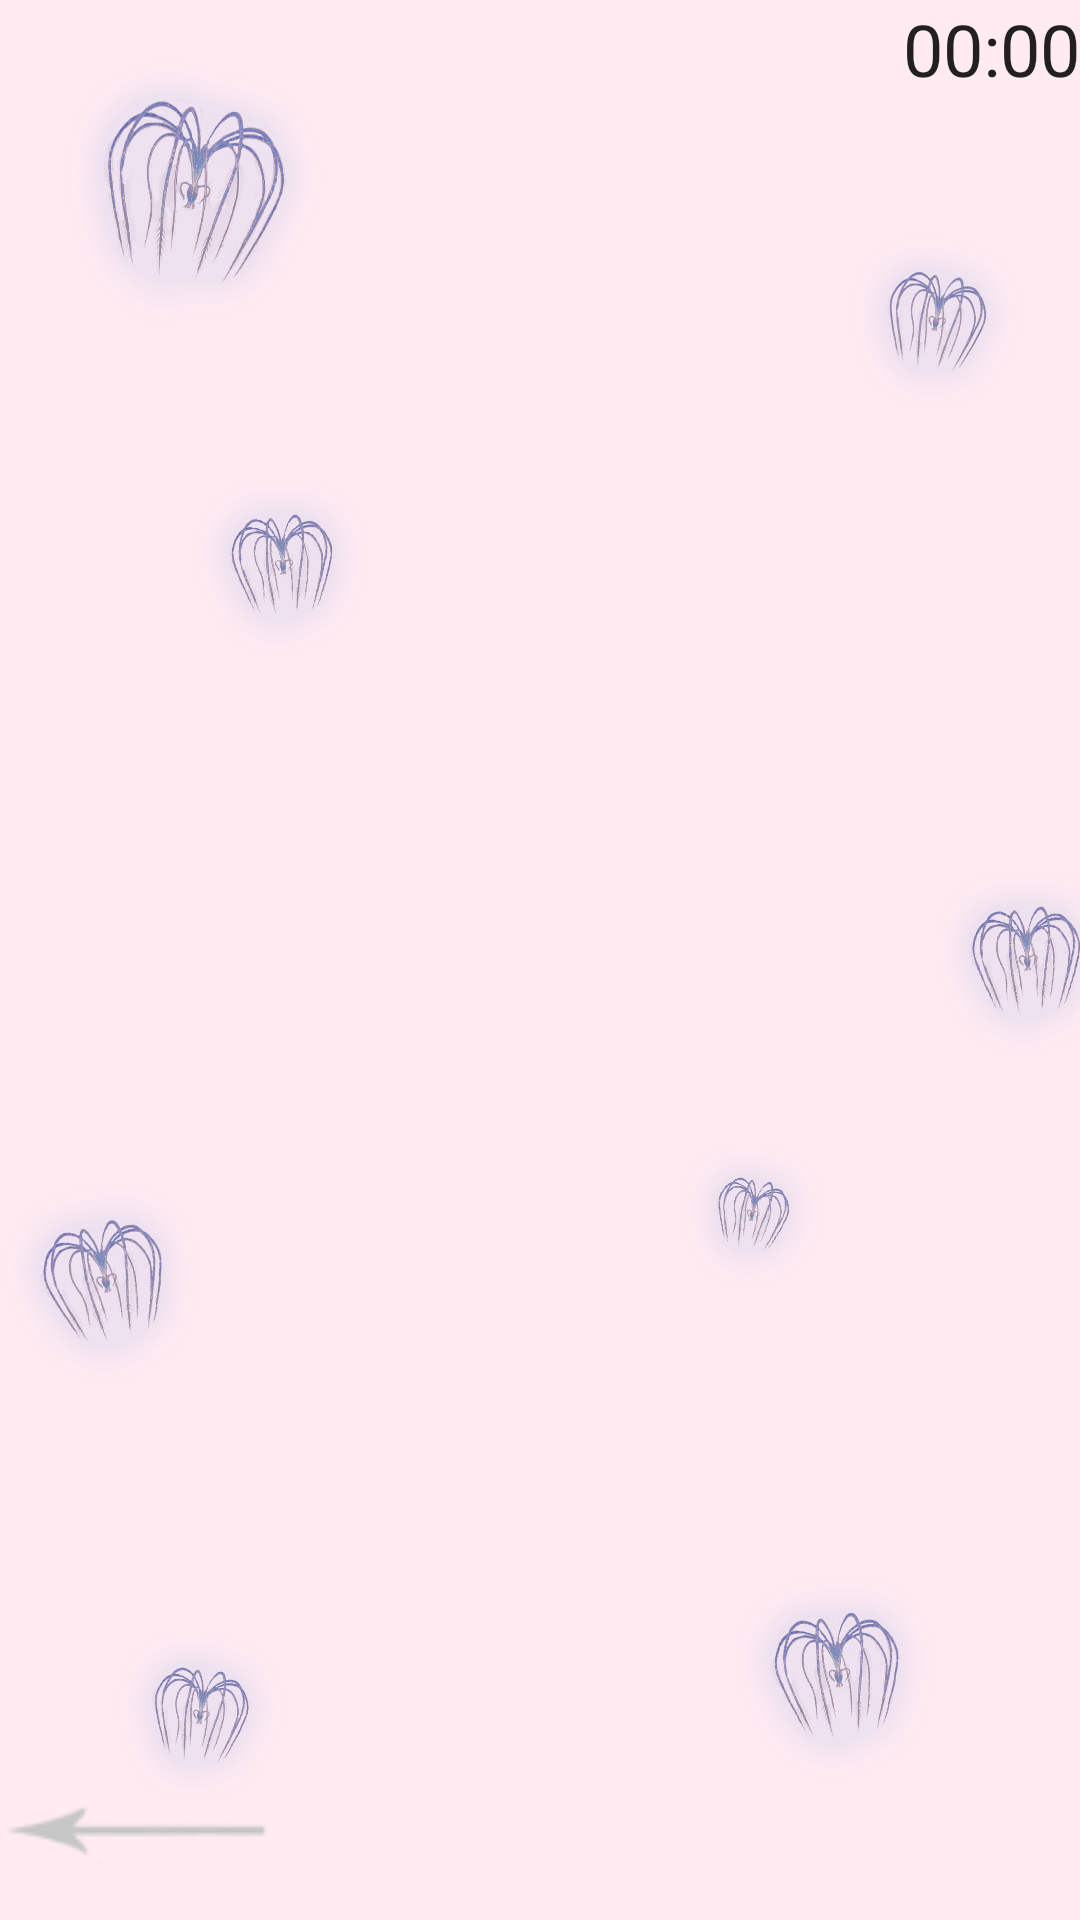

Icon click points for this 1080px x 1920px phone screenshot, format point (x, y):
back: point (139, 1830)
